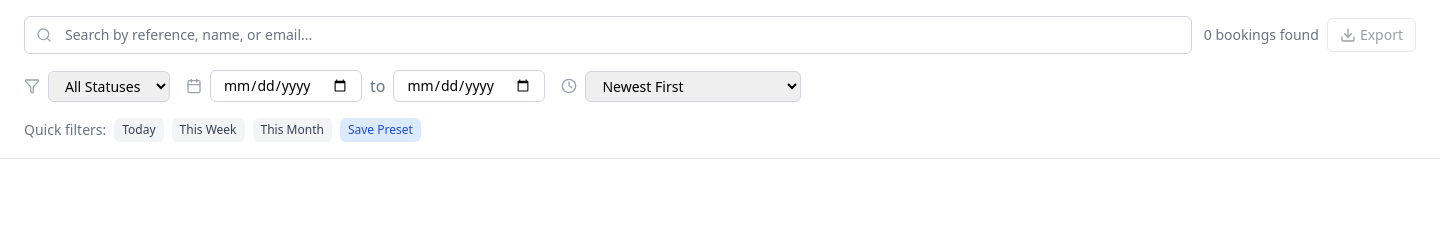
Test: BookingSearchBar › should validate date range
In the date field named "Date range start": (286,86) [210,70,362,102], type "2024-08-31"
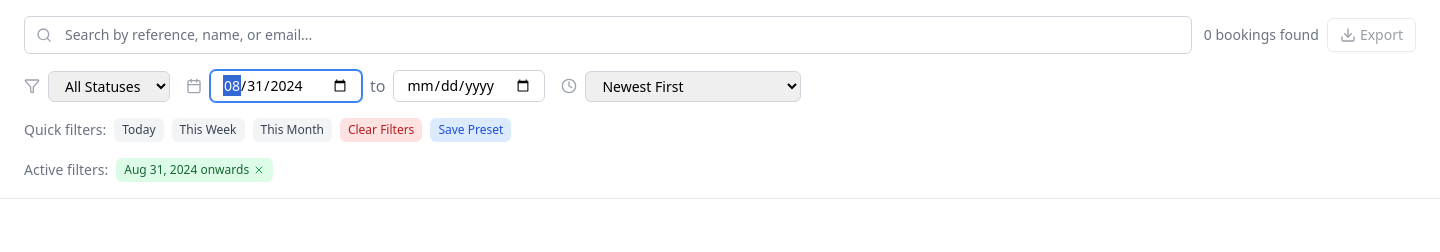
In the date field named "Date range end": (470,86) [394,70,546,102], type "2024-08-01"
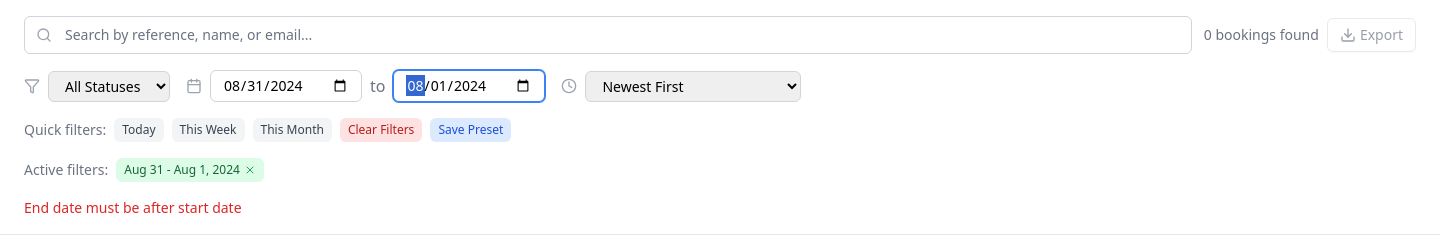
Now the text "End date must be after start date" is shown, box [24,198,242,217]
